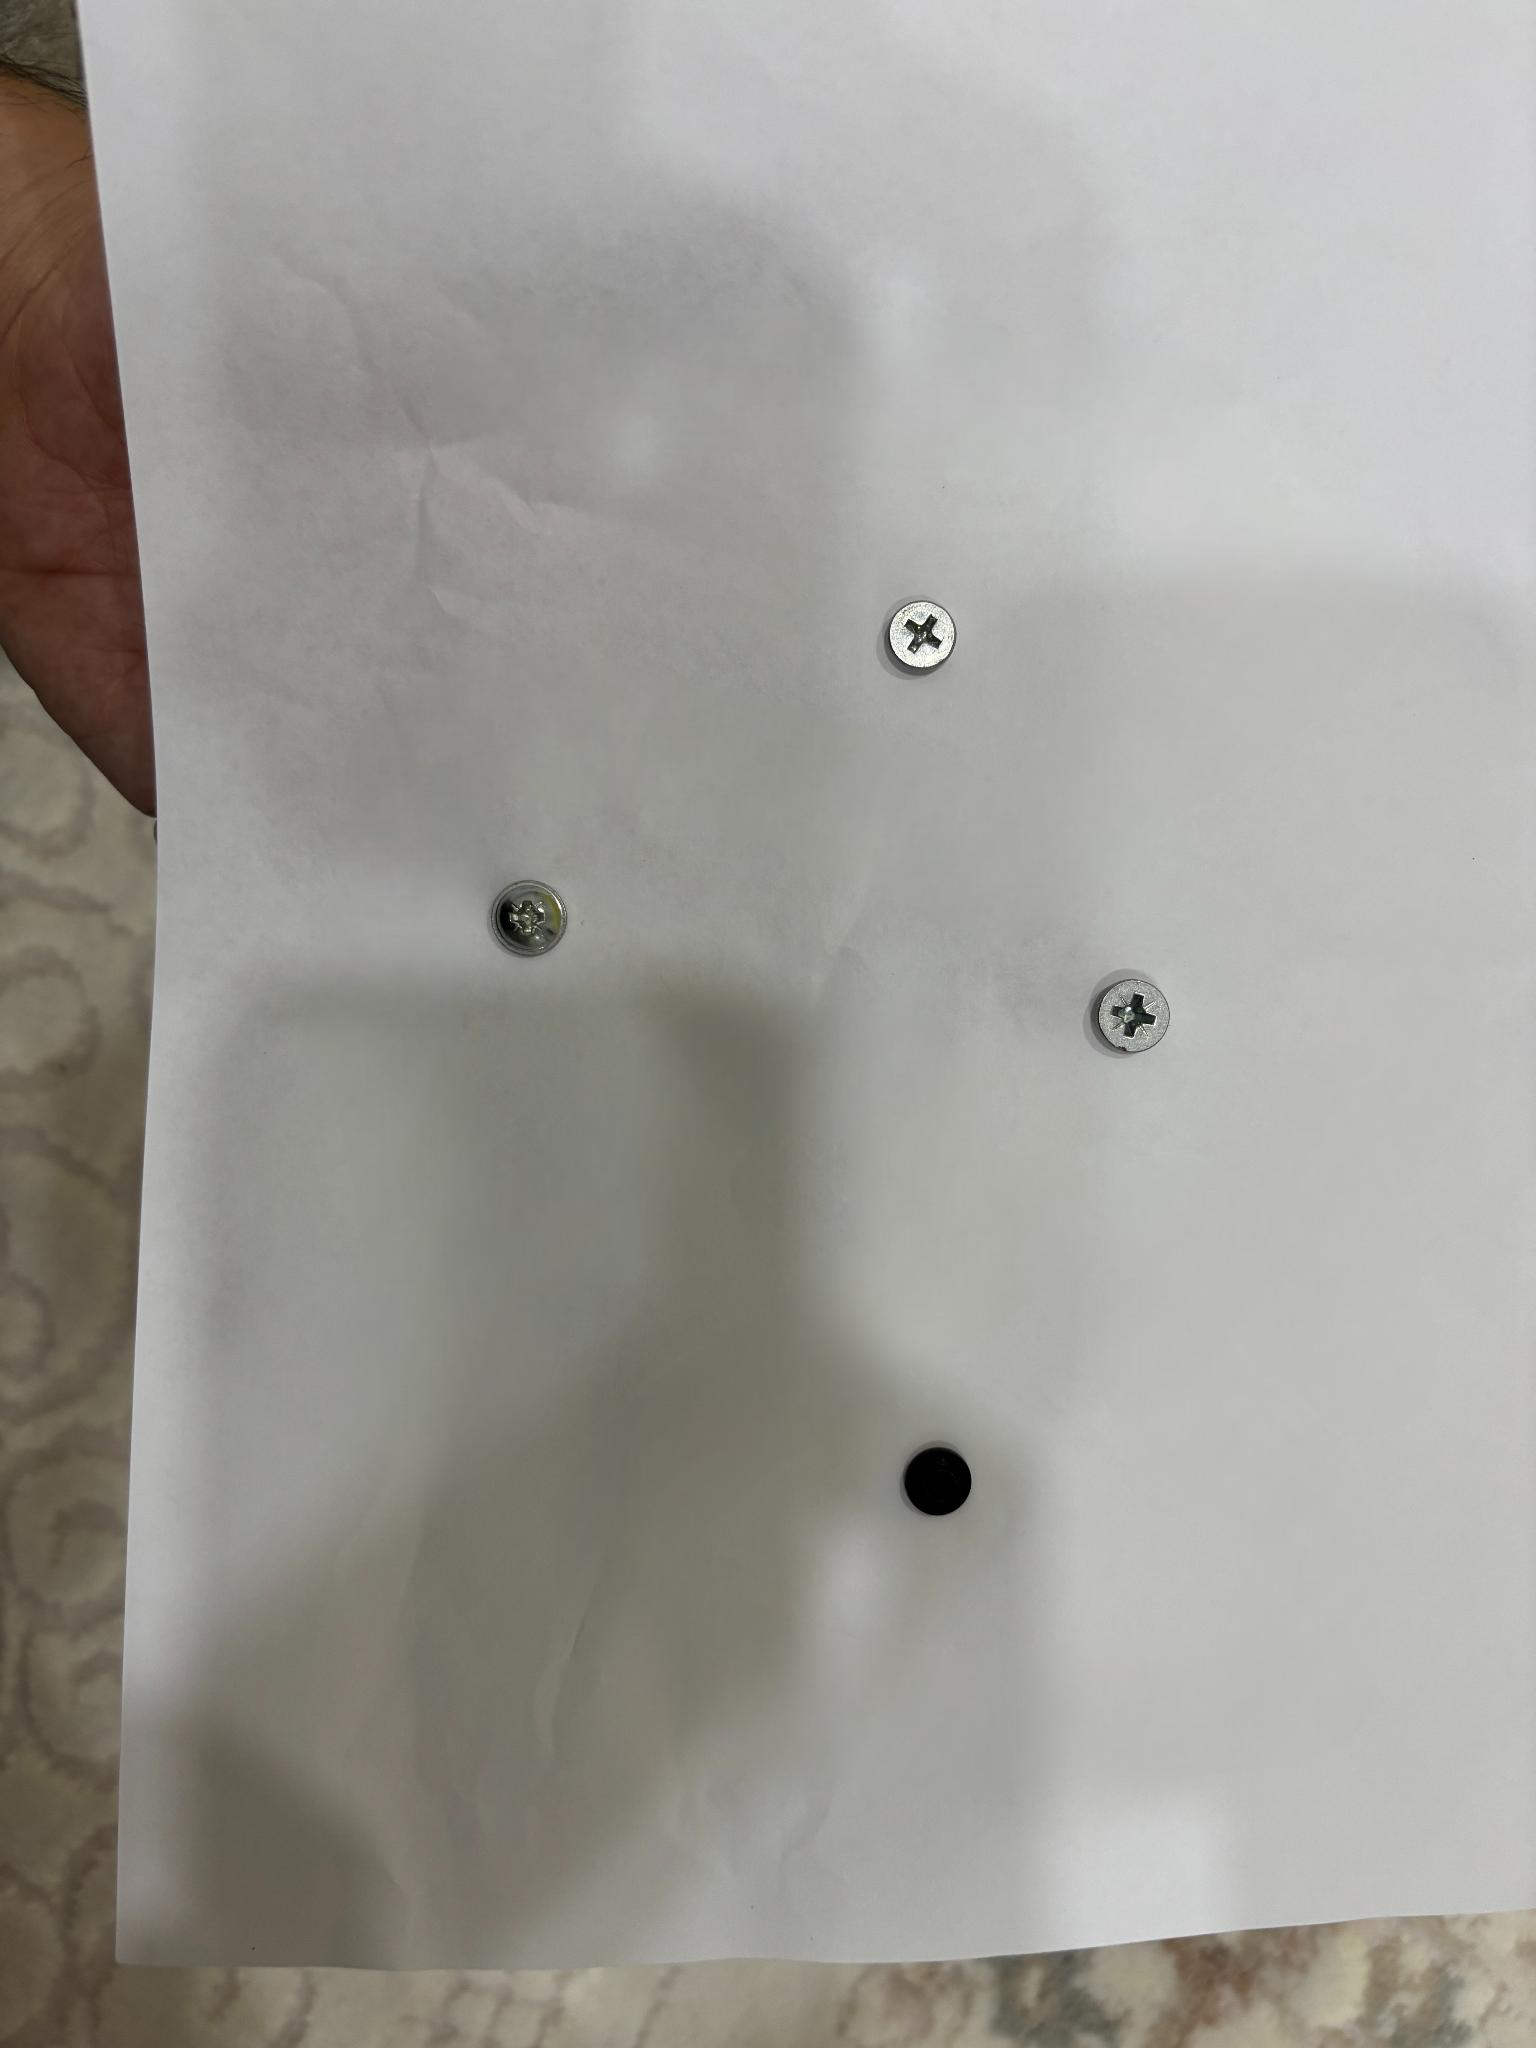H: (903, 1446, 971, 1516)
PH: (887, 601, 955, 670)
PZ: (491, 882, 566, 957), (1098, 978, 1170, 1053)
